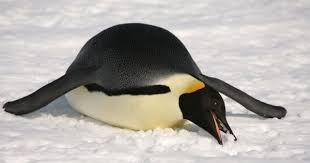emporer: (2, 13, 291, 158)
